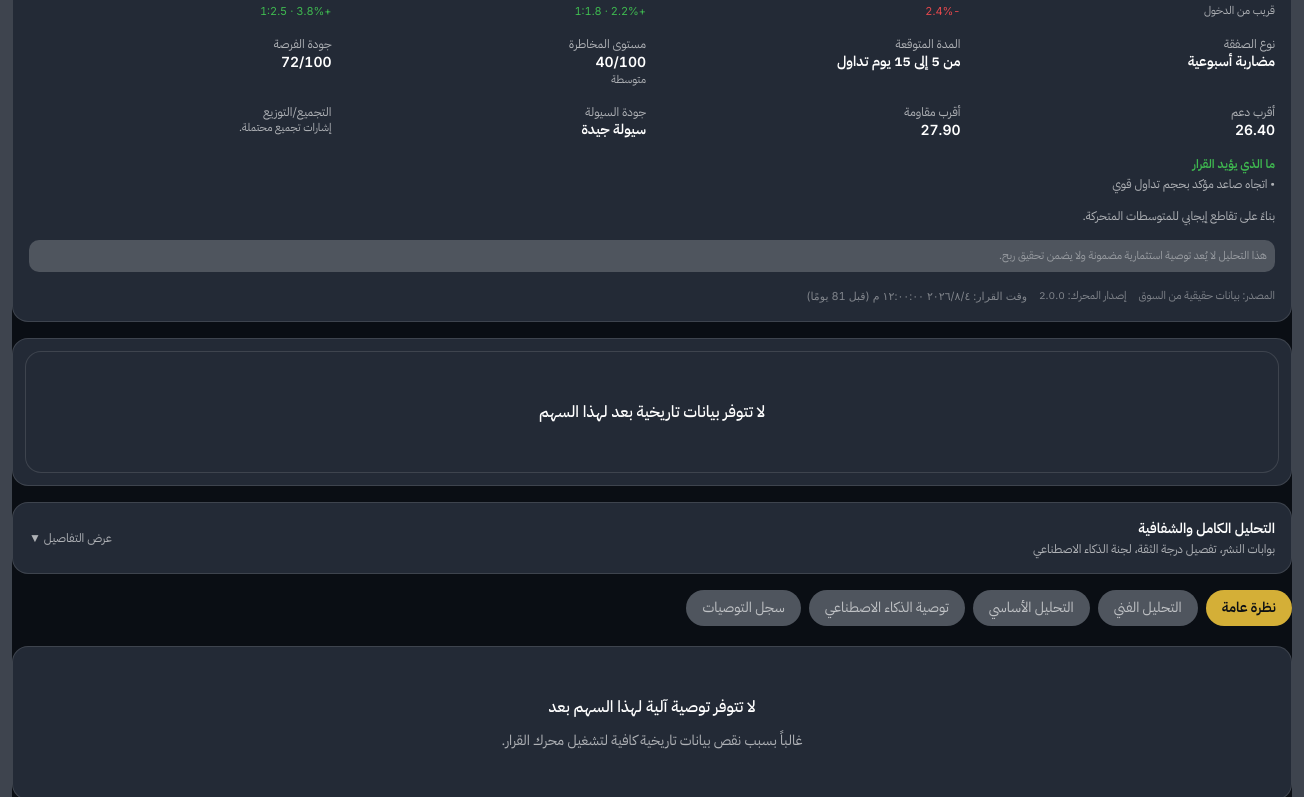
Test: StockDetailClient › RADAR-C Phase G: renders the chart right after the executive decision and keeps the advanced transparency panel collapsed until the user expands it
(page scrolled)
Check: the text "صاعد — معتدل" is not shown
Click the text "التحليل الكامل والشفافية" at {"x": 1207, "y": 528}, box x1=1138 y1=518 x2=1275 y2=538
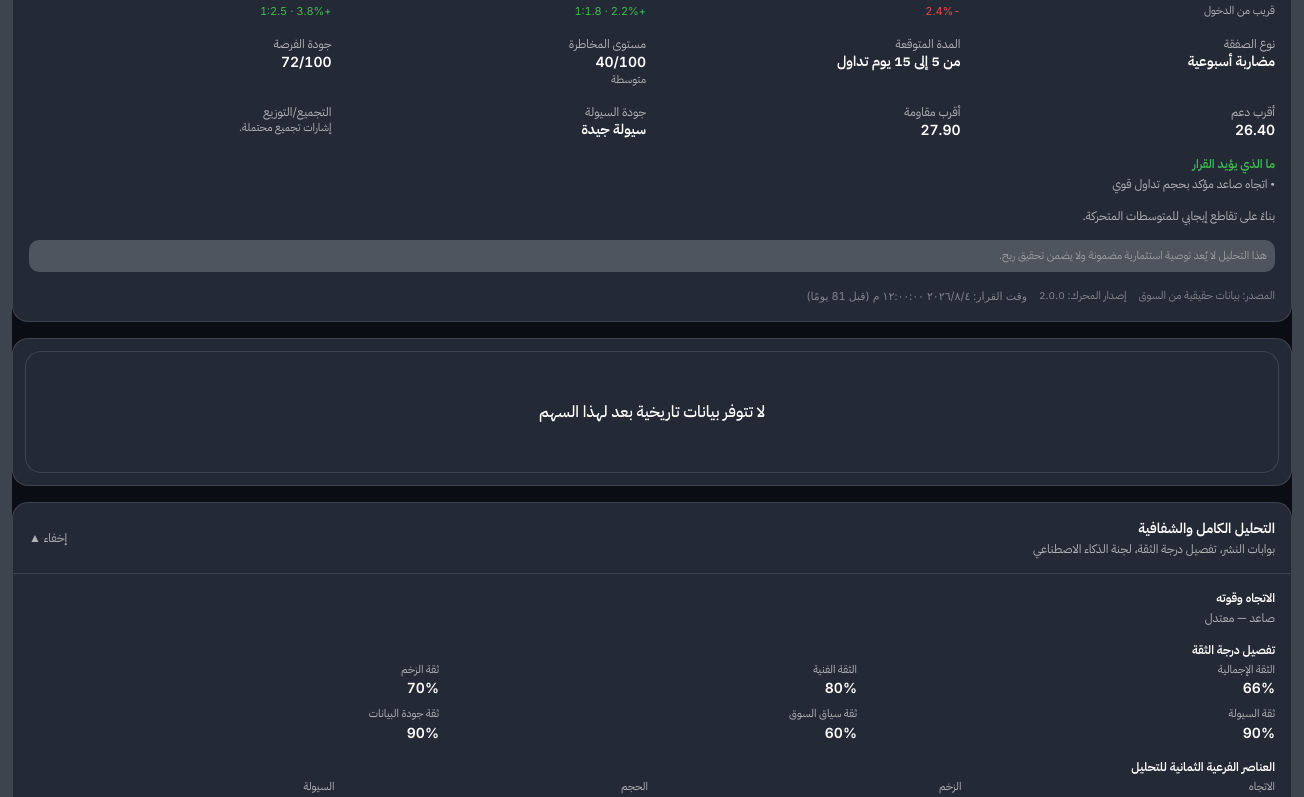
Check: the text "صاعد — معتدل" is shown, box x1=1205 y1=608 x2=1275 y2=626
